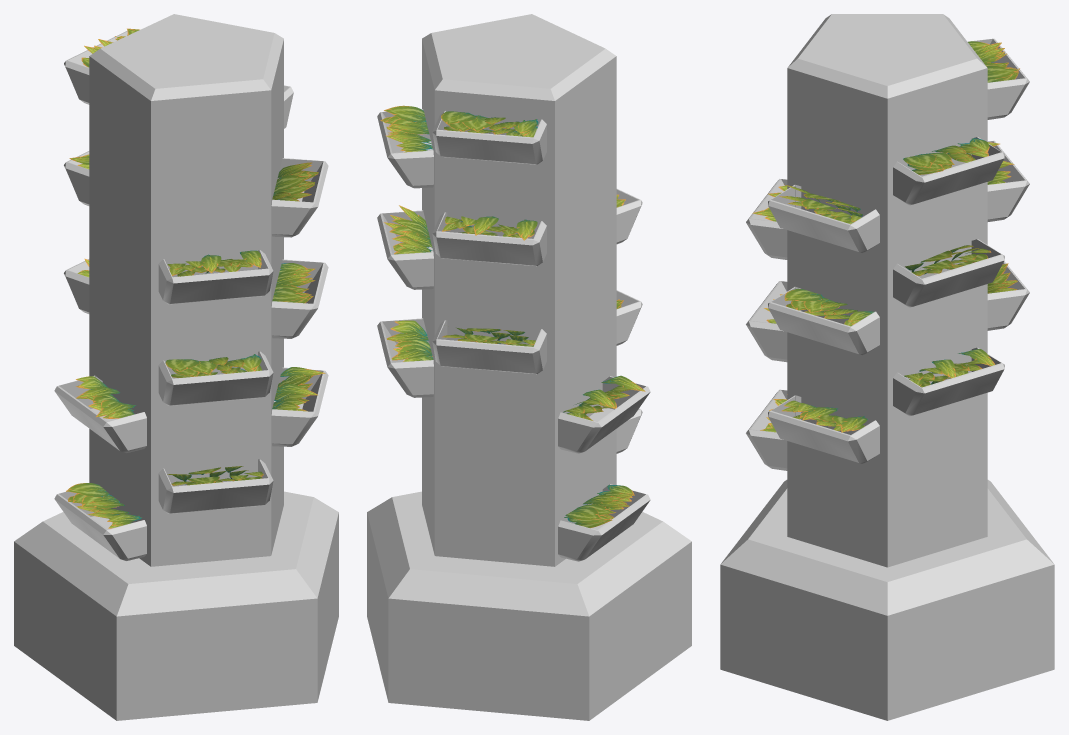
File: TowerWithPlants.fbx
3 views of the same model, side by side, from view 1: azimuth 30°, elevation 25°; view 2: azimuth 150°, elevation 25°; view 3: azimuth 270°, elevation 25° (orthographic).
Visible parts, largest first — view 1: Tower, Plant7, Plant9, Plant13, Plant14, Plant8, Plant10, Plant11, Plant12; view 2: Tower, Plant6, Plant3, Plant7, Plant5, Plant4, Plant2, Plant8, Plant1; view 3: Tower, Plant6, Plant10, Plant4, Plant13, Plant11, Plant5, Plant3.
Part boxes in pixels (<box>): Tower: <box>14,14,338,720</box>; Plant7: <box>66,483,141,528</box>; Plant9: <box>165,354,261,377</box>; Plant13: <box>272,367,325,411</box>; Plant14: <box>167,250,261,276</box>; Plant8: <box>76,376,135,418</box>; Plant10: <box>272,263,315,303</box>; Plant11: <box>272,162,318,201</box>; Plant12: <box>167,466,263,485</box>; Tower: <box>367,14,691,720</box>; Plant6: <box>380,105,432,152</box>; Plant3: <box>441,111,538,137</box>; Plant7: <box>564,485,634,528</box>; Plant5: <box>384,205,432,254</box>; Plant4: <box>386,320,433,361</box>; Plant2: <box>442,216,537,240</box>; Plant8: <box>563,375,645,420</box>; Plant1: <box>442,327,535,346</box>; Tower: <box>720,14,1054,720</box>; Plant6: <box>903,138,989,174</box>; Plant10: <box>784,288,874,326</box>; Plant4: <box>904,349,995,387</box>; Plant13: <box>782,400,867,432</box>; Plant11: <box>779,184,862,224</box>; Plant5: <box>905,245,991,275</box>; Plant3: <box>968,41,1019,82</box>.
Size of the model in its own units: 109 by 228 by 114.
